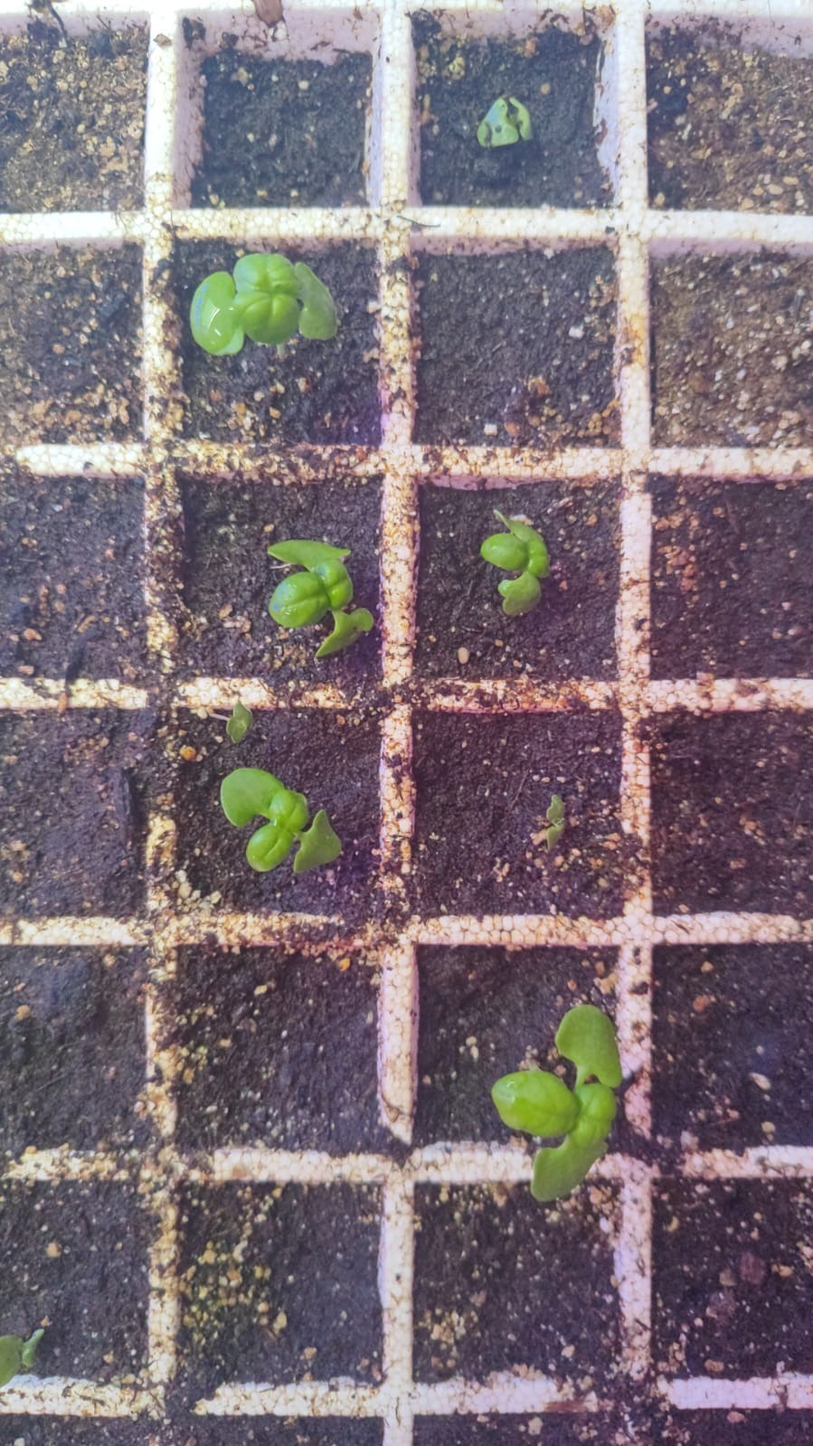Folha: (449, 998, 636, 1213), (169, 245, 341, 362), (214, 759, 343, 877), (264, 531, 377, 663), (477, 506, 552, 617), (124, 264, 184, 402), (219, 765, 309, 838), (475, 96, 533, 147), (0, 1328, 45, 1386), (266, 537, 345, 566), (542, 794, 564, 850), (226, 706, 251, 744), (237, 677, 266, 709), (327, 581, 351, 609), (349, 606, 373, 634), (318, 633, 340, 654), (274, 19, 288, 40), (790, 345, 800, 359), (801, 339, 812, 348), (14, 1436, 24, 1445)
Germinacao: (442, 990, 643, 1221), (218, 672, 343, 875), (190, 251, 336, 357), (264, 536, 367, 657), (479, 515, 552, 614), (476, 97, 531, 148), (543, 793, 566, 848)
